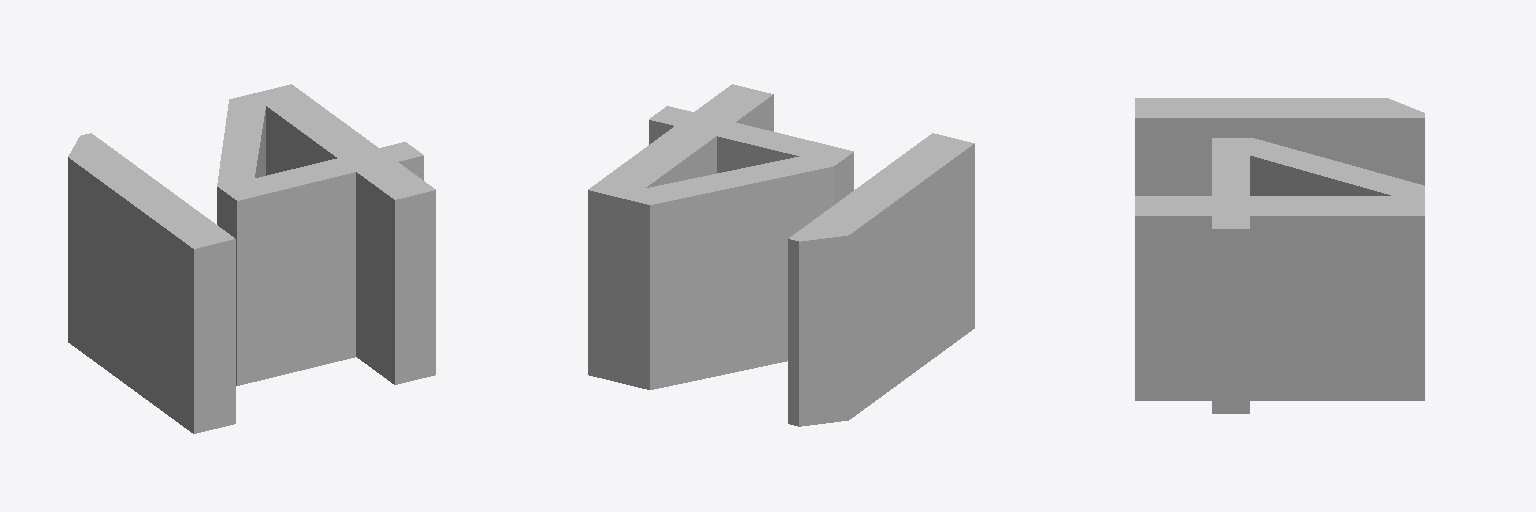
Rendered from date_14.obj.
The picture shows the model from 3 angles: view 1: azimuth 30°, elevation 25°; view 2: azimuth 150°, elevation 25°; view 3: azimuth 270°, elevation 25°; orthographic projection.
Visible parts, largest first — view 1: Text; view 2: Text; view 3: Text.
Boxes of the visible parts, box(x1,y1,x2,y2) form: Text: box(68, 84, 435, 433); Text: box(588, 84, 974, 426); Text: box(1135, 98, 1424, 413).
Size of the model in its own units: 0.6084 by 0.4 by 0.5663.